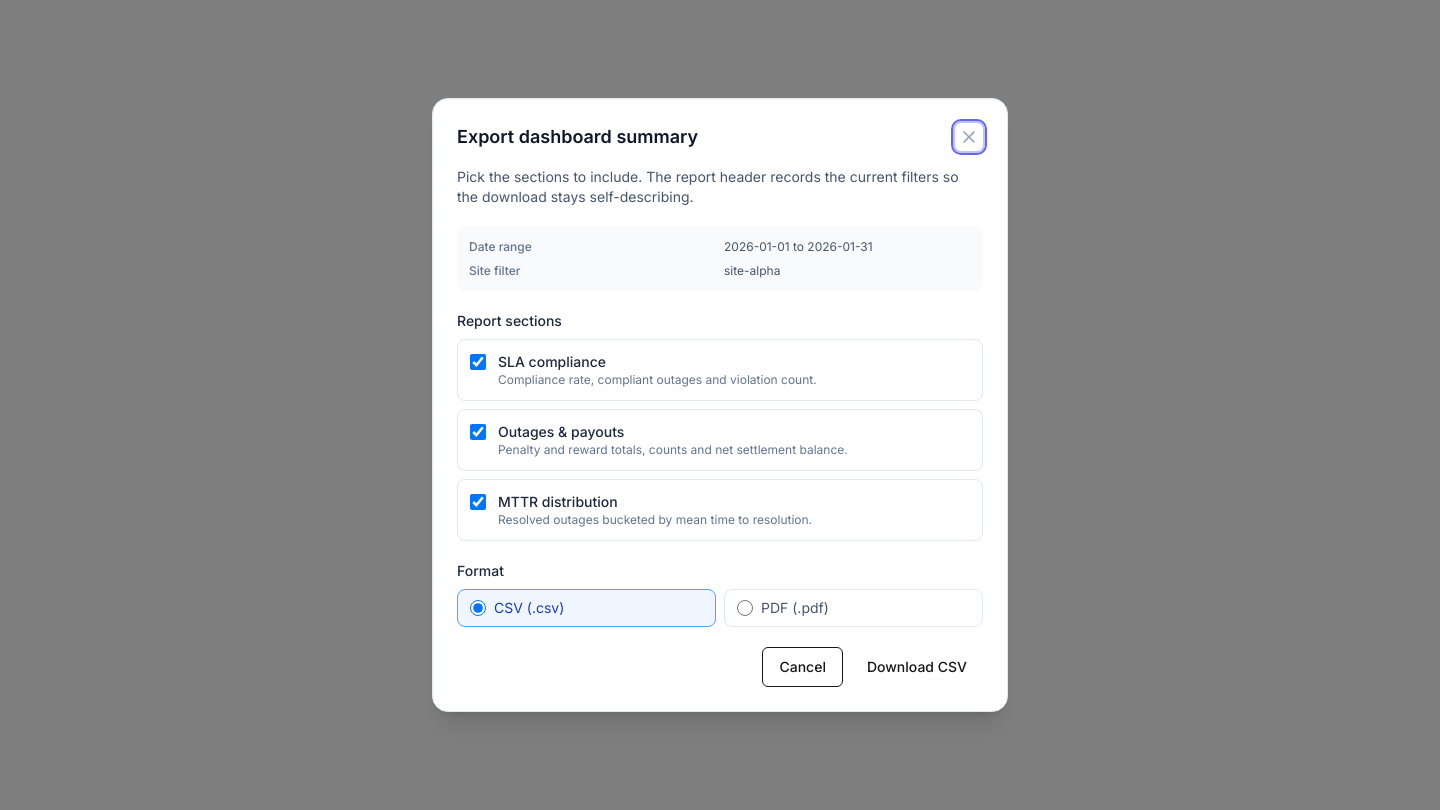
Scenario: ExportModal › disables the download when every section is deselected
The width and height of the screenshot is (1440, 810).
What coordinates should you click on to do the following:
click the checkbox labelled "SLA compliance"
I would click on:
 (478, 362)
Its box is [470,354,486,370].
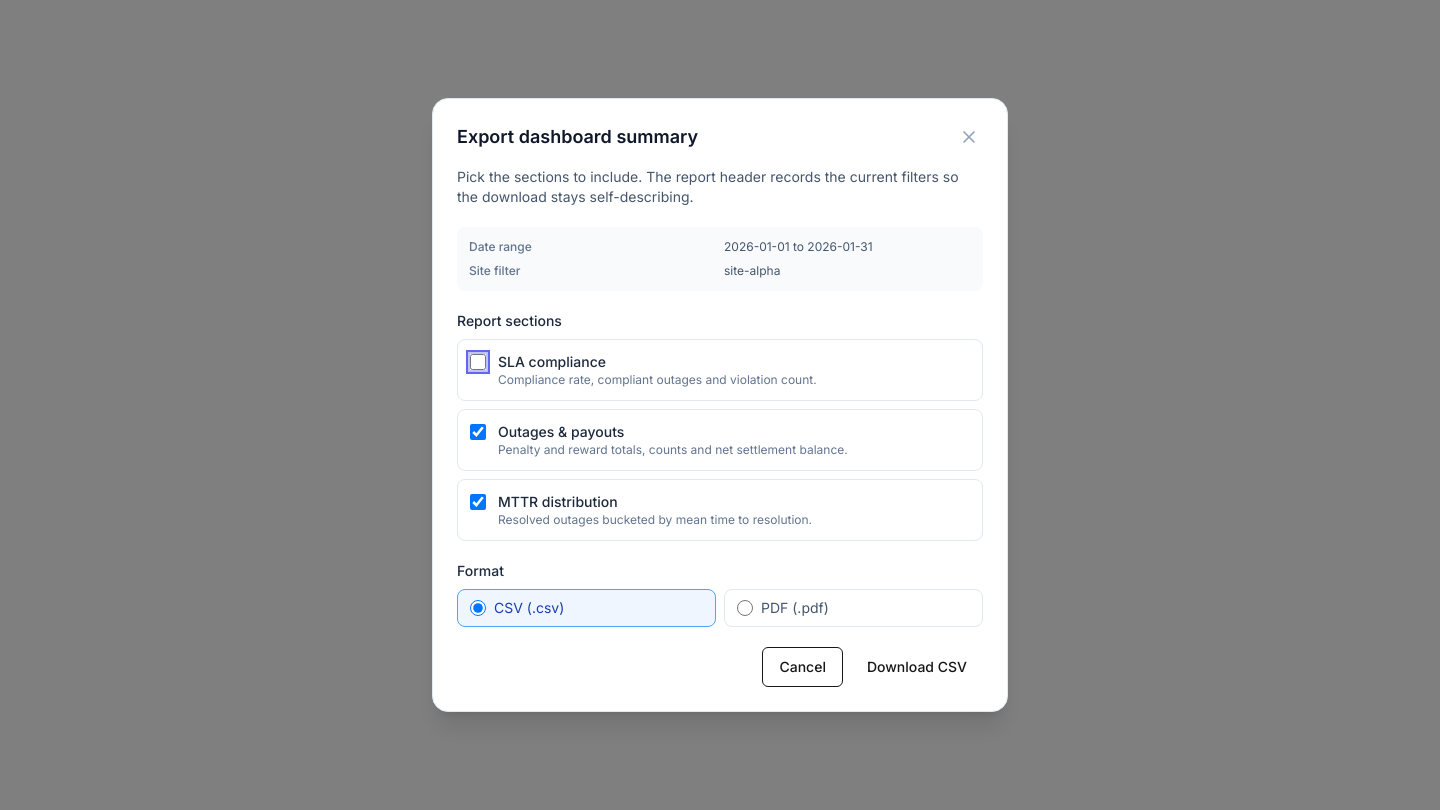
What coordinates should you click on to do the following:
click the checkbox labelled "Outages & payouts"
I would click on:
 (478, 432)
Its box is [470,424,486,440].
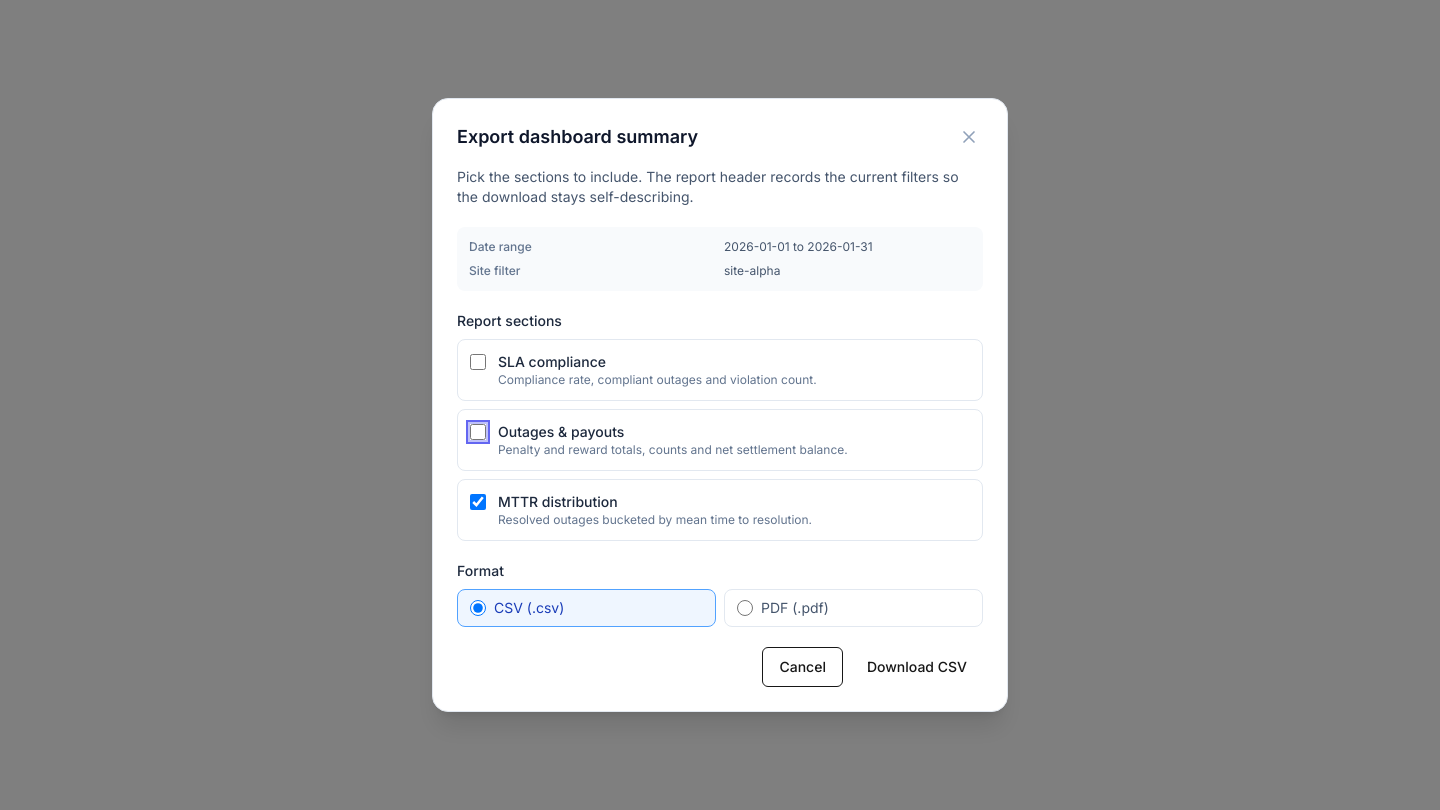
What coordinates should you click on to do the following:
click the checkbox labelled "MTTR distribution"
I would click on:
 (478, 502)
Its box is [470,494,486,510].
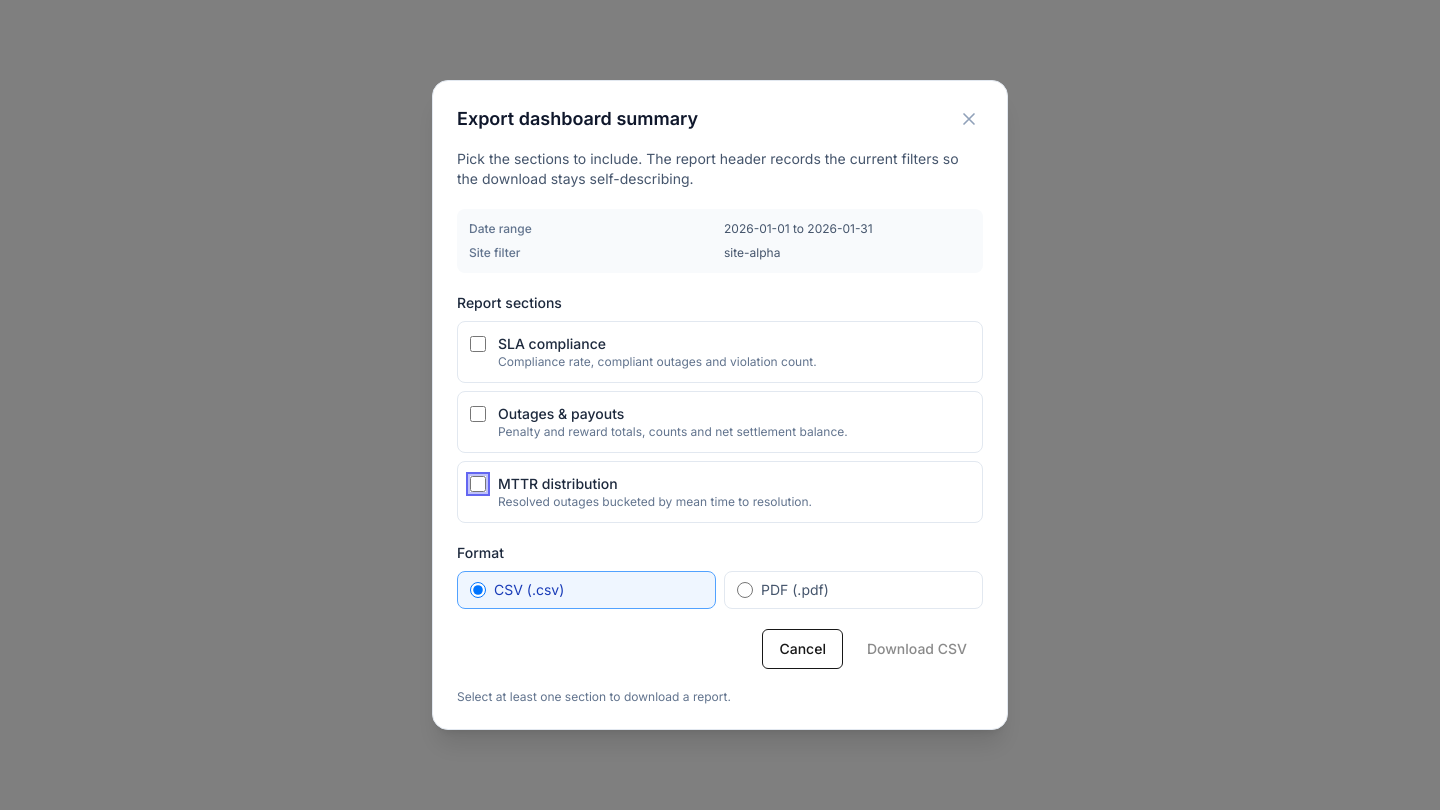
Expected: the button "Download CSV" is disabled, [851,629,983,669]
Expected: the text "Select at least one section to download a report." is shown, [457,689,731,704]
